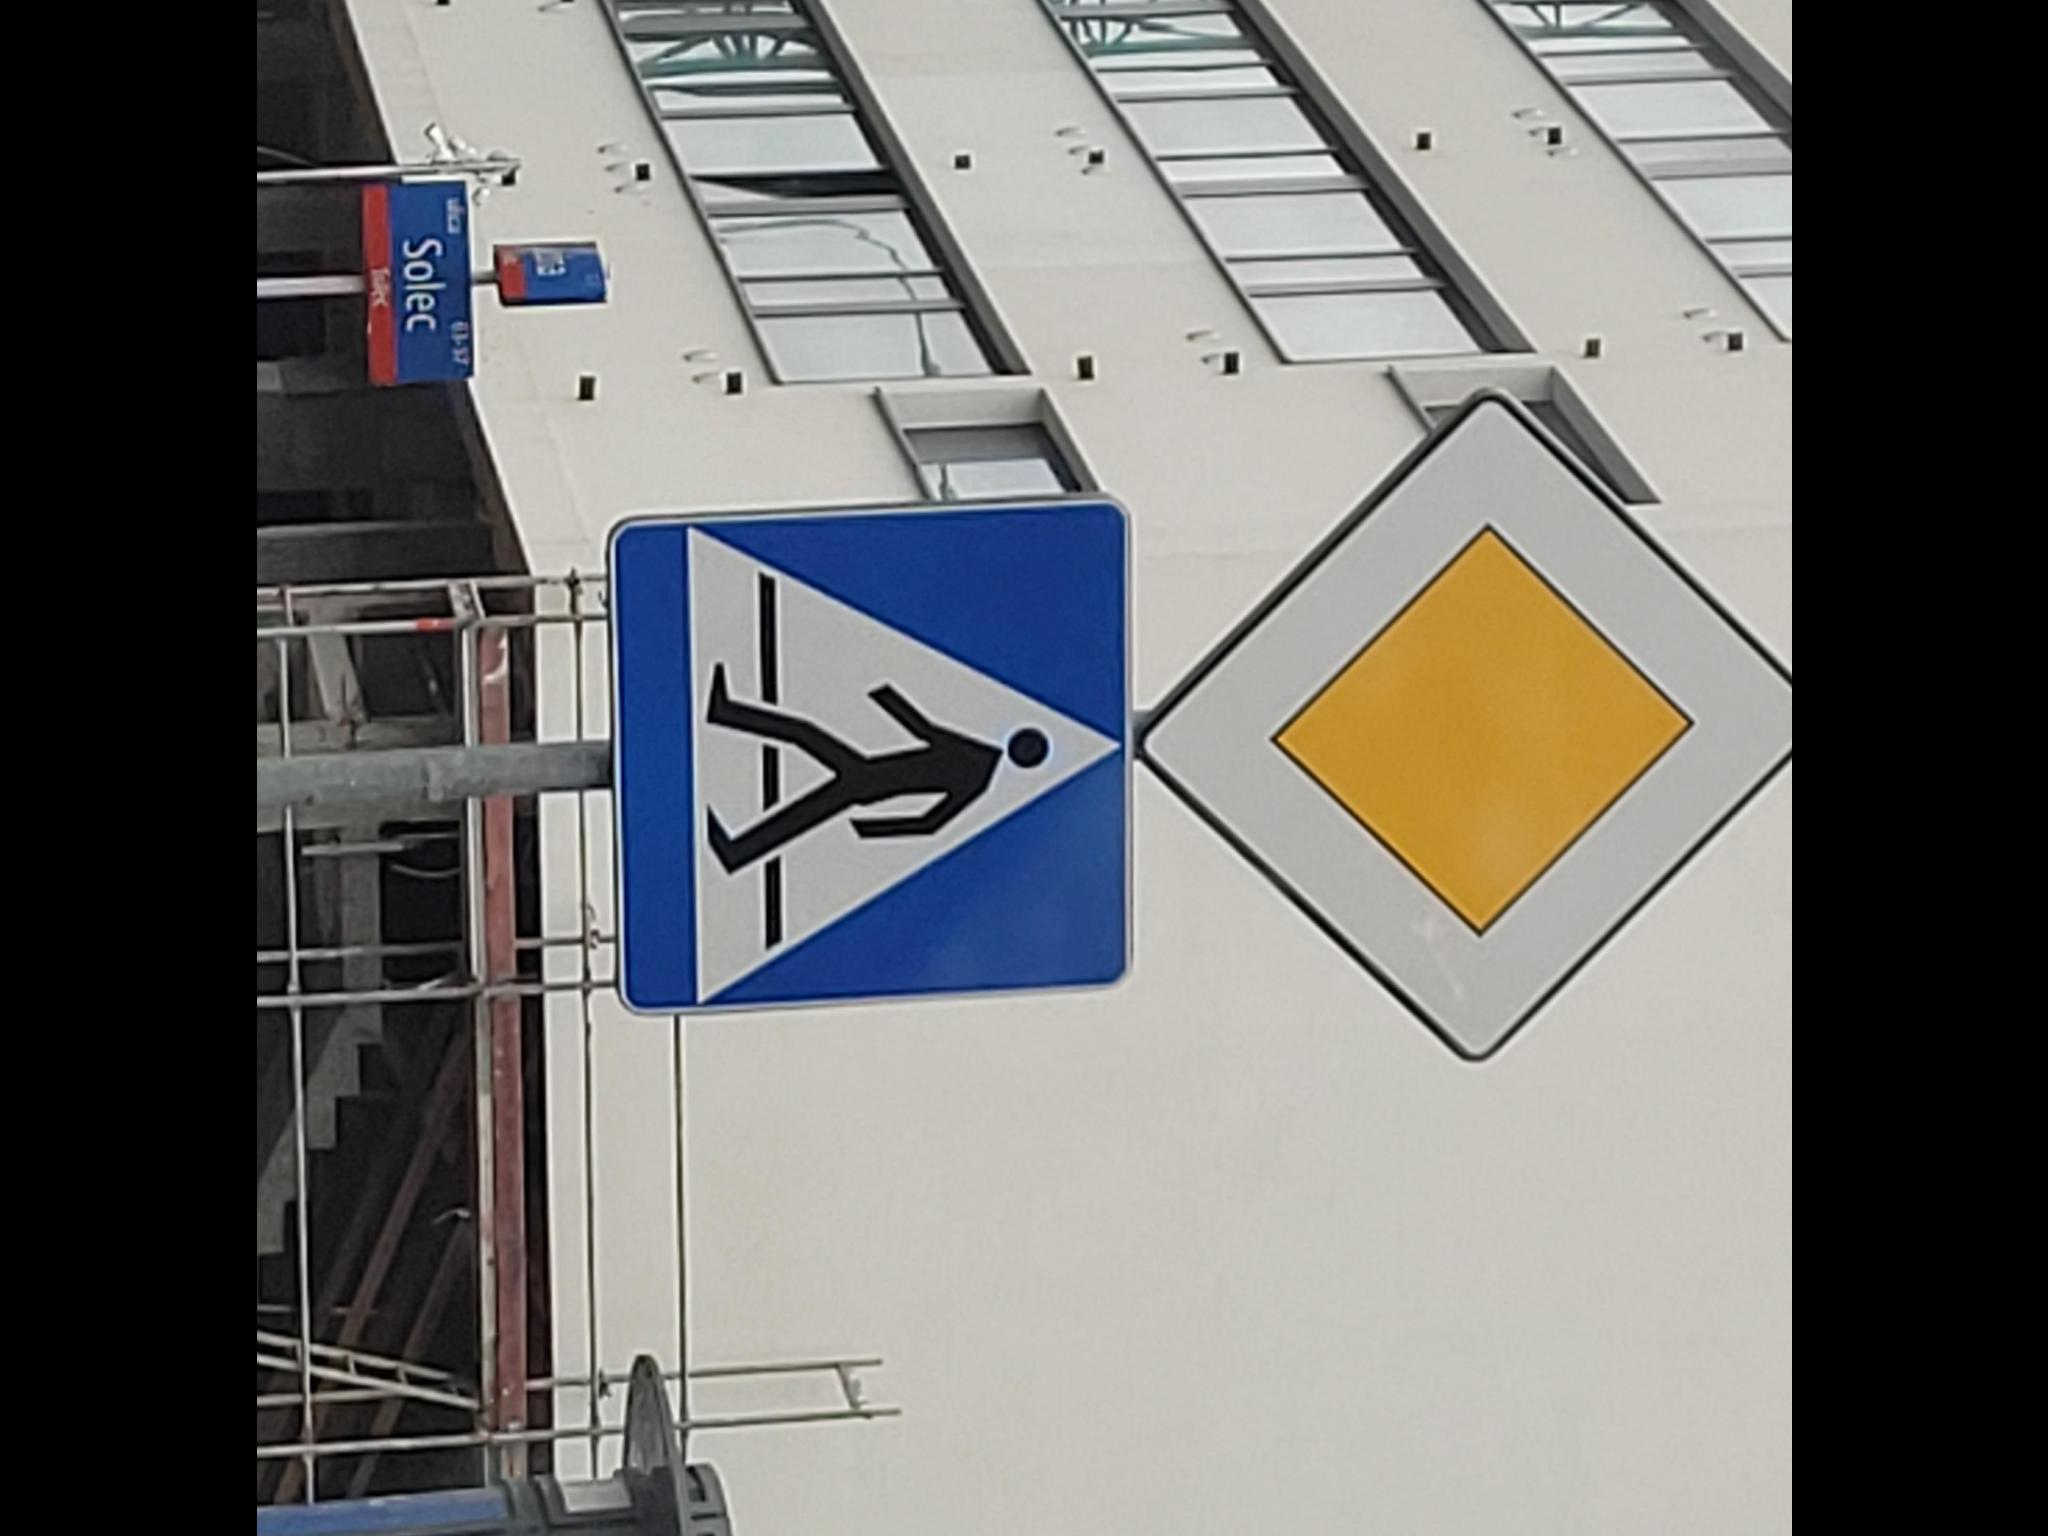information: (1137, 392, 1792, 1066), (618, 510, 1135, 995)
